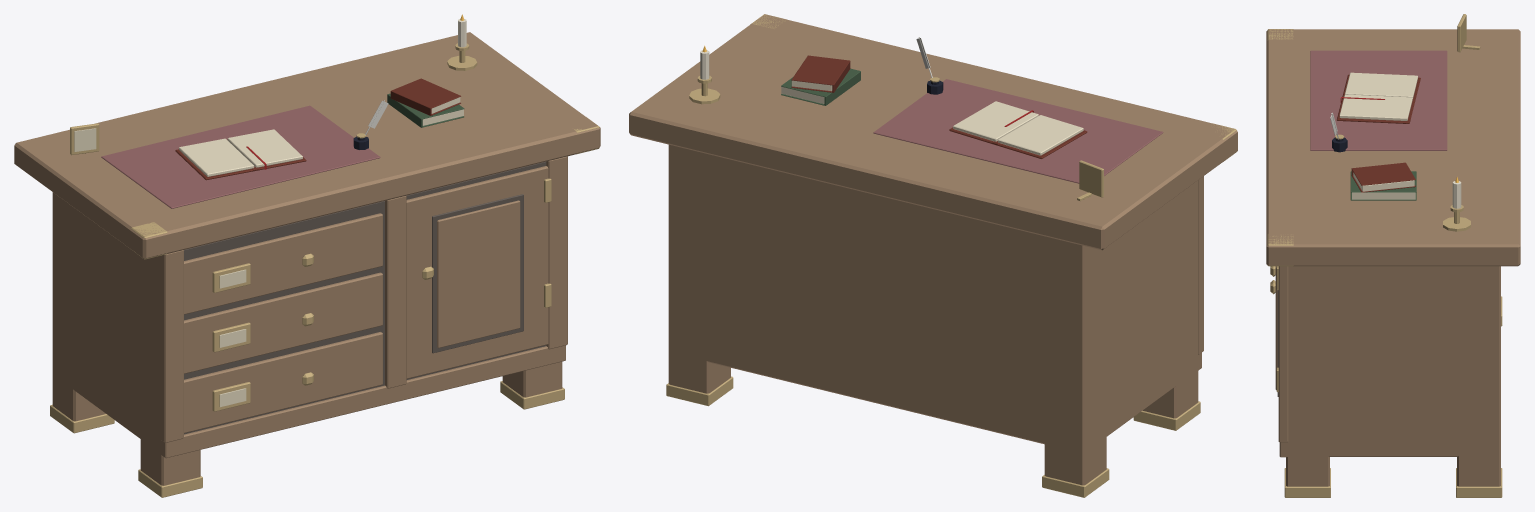
The model's file is GrandpaDesk.fbx.
The picture shows the model from 3 angles, left to right: view 1: azimuth 30°, elevation 25°; view 2: azimuth 150°, elevation 25°; view 3: azimuth 270°, elevation 25°; orthographic projection. The views are drawn at different scales.
Parts seen in each view (by area): view 1: Worktop, Body, Door, DeskMat, DoorInsetPanel, Drawer_01, Drawer_03, Drawer_02, BottomRail, FrontRecess, Leg (×3), Stile_L (+7 smaller); view 2: Body, Worktop, DeskMat, Leg (×3), LegShoe (×3), DiaryPage_L, DiaryPage_R, Book_02_CoverTop, Stile_L, PhotoFrame_Border; view 3: Worktop, Body, DeskMat, Leg (×2), Stile_R, DiaryPage_R, DiaryPage_L, LegShoe (×2), Book_02_CoverTop, Book_01_Pages, Book_02_Pages, DiaryCover_R (+4 smaller).
Part boxes in pixels (x1,y1,x2,y2): Worktop: (14,32,600,258); Body: (52,192,161,450); Door: (406,166,548,378); DeskMat: (101,105,380,208); DoorInsetPanel: (437,200,520,348); Drawer_01: (184,332,382,433); Drawer_03: (184,213,382,314); Drawer_02: (184,272,382,373); BottomRail: (161,345,565,458); FrontRecess: (184,161,546,434); Leg (×3): (52,361,562,485); Stile_L: (160,250,183,442); Body: (668,144,1198,452); Worktop: (629,14,1237,250); DeskMat: (873,79,1163,183); Leg (×3): (668,348,1198,485); LegShoe (×3): (666,376,1200,497); DiaryPage_L: (998,115,1083,155); DiaryPage_R: (953,101,1038,141); Book_02_CoverTop: (791,55,850,85); Stile_L: (1198,176,1203,354); PhotoFrame_Border: (1079,160,1103,197); Worktop: (1266,29,1520,266); Body: (1288,266,1500,456); DeskMat: (1310,50,1447,150); Leg (×2): (1286,452,1500,486); Stile_R: (1278,266,1288,442); DiaryPage_R: (1339,94,1412,120); DiaryPage_L: (1345,72,1417,98); LegShoe (×2): (1284,468,1502,497); Book_02_CoverTop: (1351,162,1415,185); Book_01_Pages: (1352,192,1415,199); Book_02_Pages: (1353,172,1414,191); DiaryCover_R: (1337,98,1414,123).
Size of the model in its own units: 82.68 by 55.98 by 40.94.
